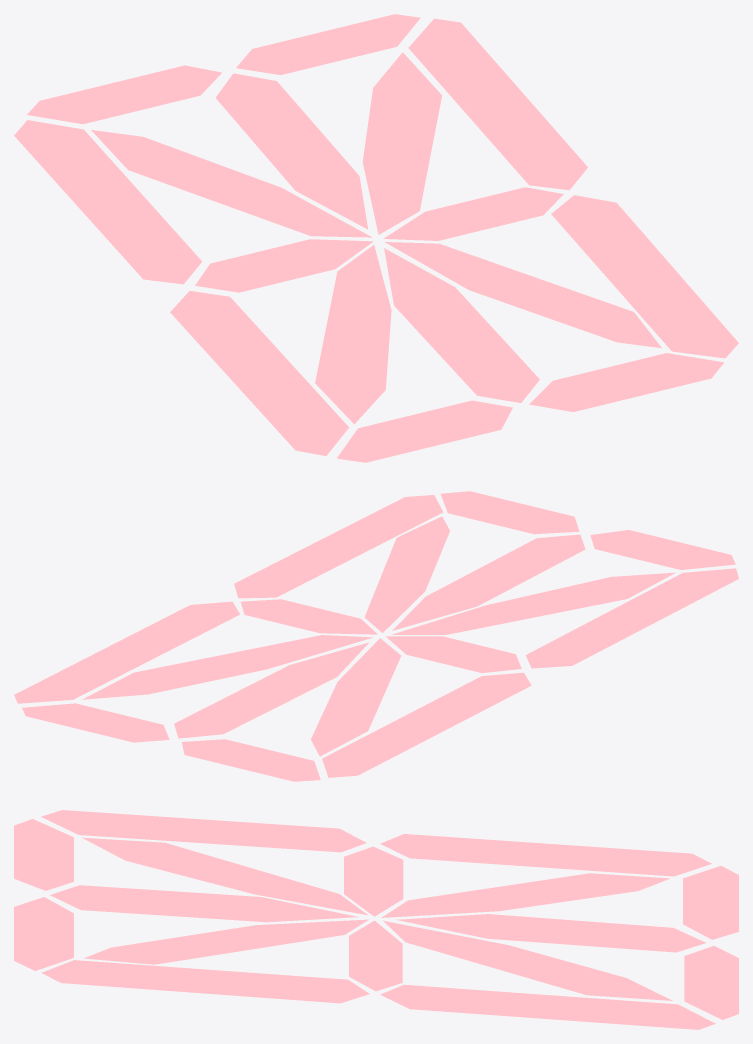
Rendered from segmentDisplayWanha.gltf.
The picture shows the model from 3 angles, top to bottom: view 1: azimuth 30°, elevation 25°; view 2: azimuth 150°, elevation 25°; view 3: azimuth 270°, elevation 25°; orthographic projection. The views are drawn at different scales.
Parts seen in each view (by area): view 1: segmentUpperRight, segmentUpperLeft, segmentLowerRight, segmentLowerLeft, segmentCrossUpperMiddle, segmentCrossLowerMiddle, segmentCrossUpperRight, segmentCrossLowerLeft, segmentCrossUpperLeft, segmentCrossLowerRight, segmentBottomRight, segmentBottomLeft (+4 smaller); view 2: segmentUpperRight, segmentUpperLeft, segmentLowerRight, segmentLowerLeft, segmentCrossUpperRight, segmentCrossUpperMiddle, segmentCrossLowerMiddle, segmentCrossLowerLeft, segmentCrossUpperLeft, segmentCrossLowerRight, segmentBottomRight, segmentBottomLeft (+4 smaller); view 3: segmentUpperRight, segmentUpperLeft, segmentLowerRight, segmentLowerLeft, segmentCrossUpperMiddle, segmentCrossLowerMiddle, segmentCrossUpperRight, segmentCrossLowerLeft, segmentCrossUpperLeft, segmentCrossLowerRight, segmentBottomRight, segmentBottomLeft (+4 smaller).
Boxes of the visible parts, x1,y1,x2,y2 form: segmentUpperRight: (408, 18, 587, 190); segmentUpperLeft: (14, 120, 202, 284); segmentLowerRight: (551, 195, 738, 358); segmentLowerLeft: (170, 291, 348, 455); segmentCrossUpperMiddle: (215, 73, 368, 229); segmentCrossLowerMiddle: (384, 248, 539, 402); segmentCrossUpperRight: (362, 52, 441, 234); segmentCrossLowerLeft: (315, 245, 391, 424); segmentCrossUpperLeft: (91, 130, 372, 237); segmentCrossLowerRight: (385, 242, 661, 348); segmentBottomRight: (529, 353, 723, 411); segmentBottomLeft: (337, 400, 512, 462); segmentUpperRight: (14, 601, 239, 703); segmentUpperLeft: (322, 672, 531, 777); segmentLowerRight: (234, 495, 443, 598); segmentLowerLeft: (525, 568, 738, 668); segmentCrossUpperRight: (82, 635, 373, 699); segmentCrossUpperMiddle: (174, 642, 369, 738); segmentCrossLowerMiddle: (392, 534, 585, 630); segmentCrossLowerLeft: (391, 572, 675, 634); segmentCrossUpperLeft: (311, 638, 401, 756); segmentCrossLowerRight: (364, 516, 449, 632); segmentBottomRight: (440, 491, 579, 534); segmentBottomLeft: (590, 530, 735, 569); segmentUpperRight: (380, 984, 715, 1029); segmentUpperLeft: (380, 834, 711, 876); segmentLowerRight: (41, 960, 369, 1003); segmentLowerLeft: (41, 810, 366, 852); segmentCrossUpperMiddle: (396, 914, 705, 952); segmentCrossLowerMiddle: (50, 885, 358, 922); segmentCrossUpperRight: (383, 920, 672, 1000); segmentCrossLowerLeft: (82, 837, 367, 915); segmentCrossUpperLeft: (381, 873, 670, 917); segmentCrossLowerRight: (83, 919, 368, 964); segmentBottomRight: (14, 897, 73, 970); segmentBottomLeft: (14, 819, 73, 890).
Bounding box in the file's own units: 0.0529 × 0 × 0.0737.
